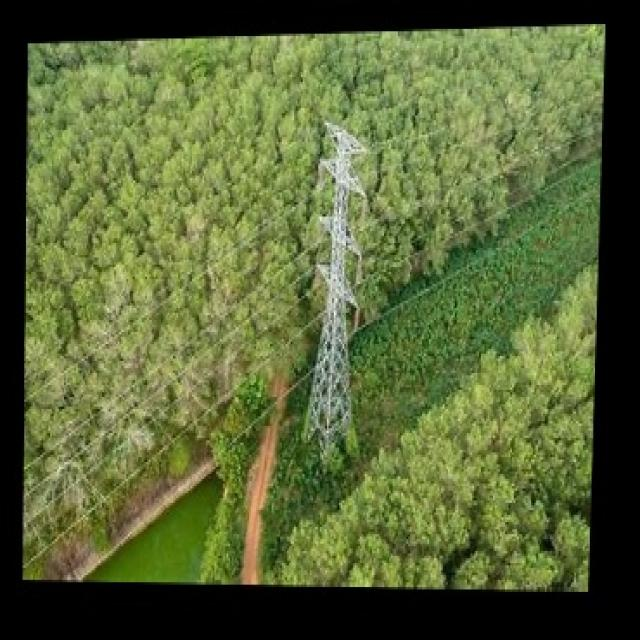utility poles: (305, 112, 373, 480)
